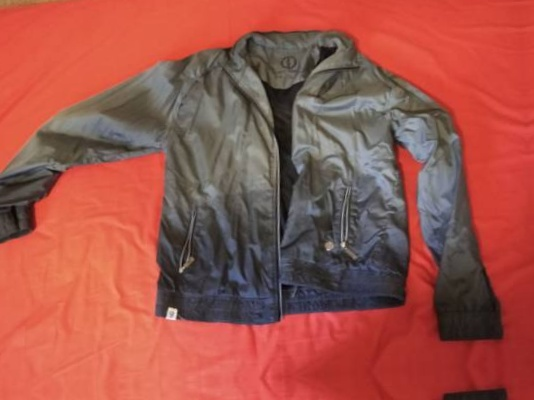Blazer: (0, 25, 534, 375), (0, 382, 534, 400), (526, 0, 534, 343)
